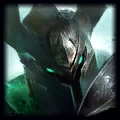MordeKaiser: (5, 5, 117, 116)
